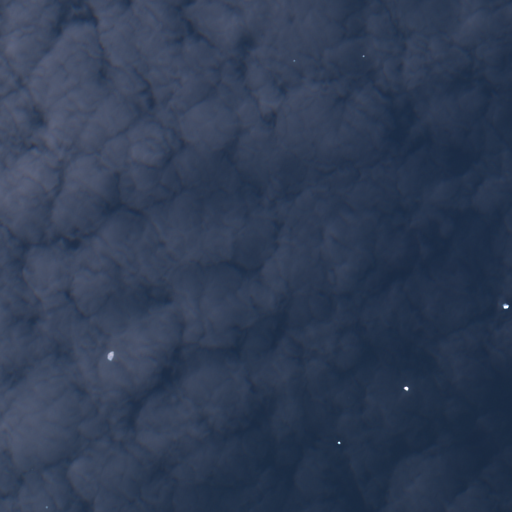Iceberg: (107, 351, 113, 360), (503, 304, 508, 308), (404, 386, 408, 390), (337, 441, 340, 444), (362, 55, 364, 57), (45, 506, 47, 508), (293, 60, 294, 61)
